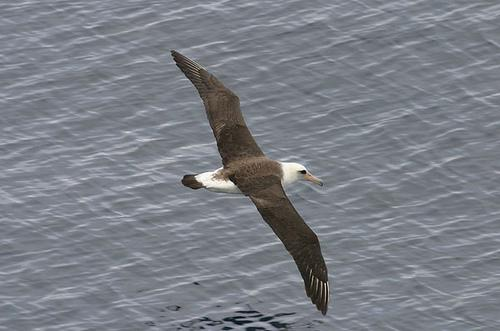002.Laysan_Albatross: (171, 48, 333, 316)
